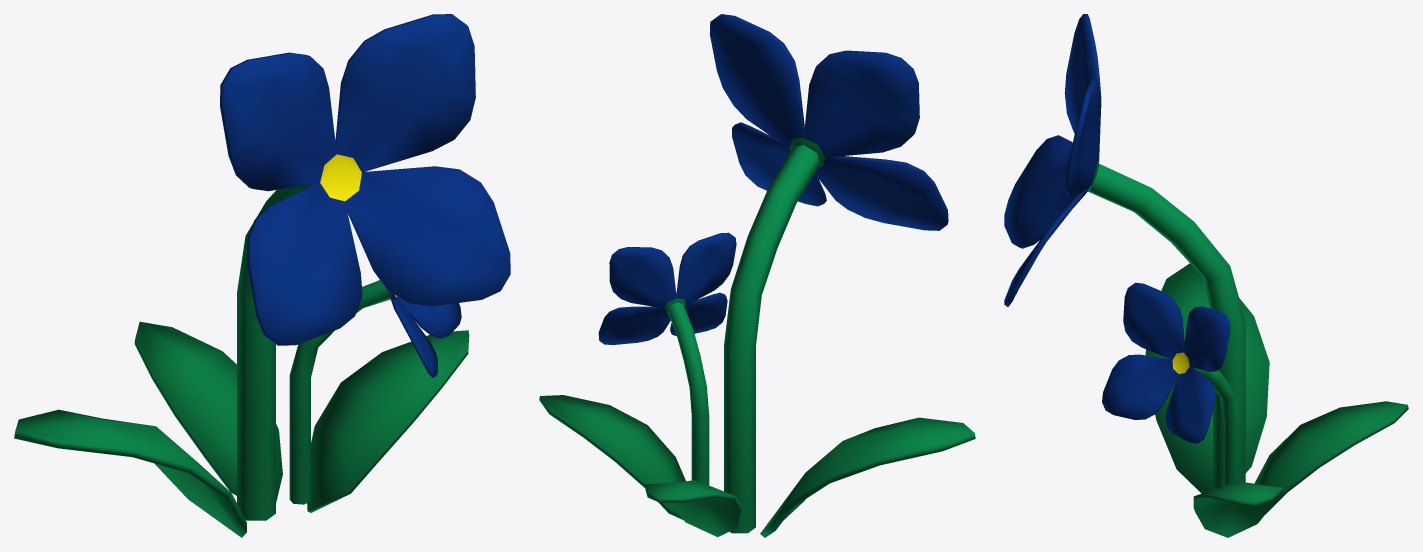
Rendered from Flover_03.01.fbx.
The picture shows the model from 3 angles, left to right: view 1: azimuth 30°, elevation 25°; view 2: azimuth 150°, elevation 25°; view 3: azimuth 270°, elevation 25°; orthographic projection. The views are drawn at different scales.
Visible parts, largest first — view 1: Flover_03.01; view 2: Flover_03.01; view 3: Flover_03.01.
Part boxes in pixels (x1,y1,x2,y2): Flover_03.01: [14, 14, 510, 537]; Flover_03.01: [539, 14, 975, 537]; Flover_03.01: [1004, 14, 1408, 537].
Size of the model in its own units: 38.34 by 32.56 by 40.9.
